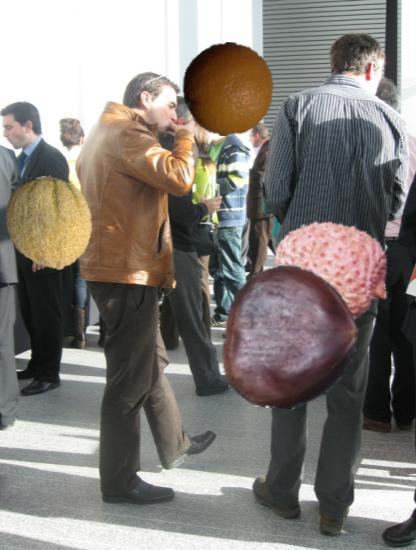Cantaloupe: (2, 176, 97, 271)
Chestnut: (219, 265, 363, 409)
Lychee: (271, 207, 395, 331)
Orange: (181, 42, 276, 137)
